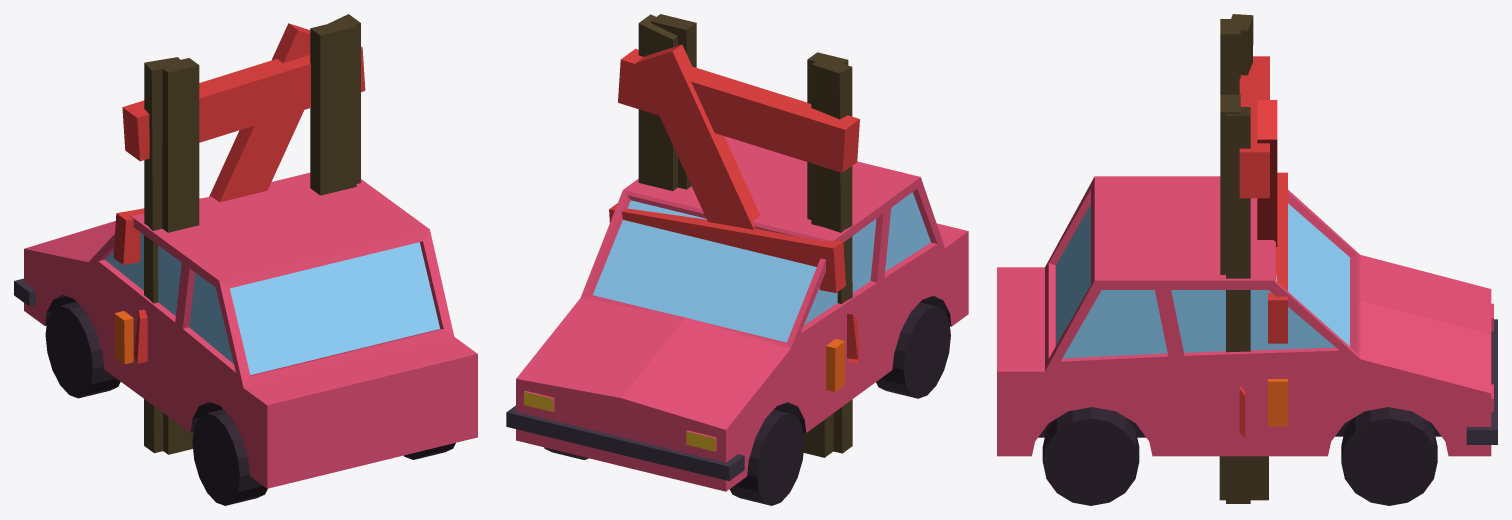
Rendered from ObstaclesModel.glb.
3 renders of one model, left to right at view 1: azimuth 30°, elevation 25°; view 2: azimuth 150°, elevation 25°; view 3: azimuth 270°, elevation 25°, orthographic.
Visible parts, largest first — view 1: ObstacleCarModel, ObstacleBlockModel, ObstacleSlideModel, ObstacleJumpModel; view 2: ObstacleCarModel, ObstacleSlideModel, ObstacleBlockModel, ObstacleJumpModel; view 3: ObstacleCarModel, ObstacleSlideModel, ObstacleBlockModel, ObstacleJumpModel.
Boxes of the visible parts, box(x1,y1,x2,y2) form: ObstacleCarModel: box(14, 172, 477, 505); ObstacleBlockModel: box(127, 19, 365, 454); ObstacleSlideModel: box(122, 14, 360, 453); ObstacleJumpModel: box(113, 197, 208, 454); ObstacleCarModel: box(506, 136, 968, 505); ObstacleSlideModel: box(618, 14, 854, 453); ObstacleBlockModel: box(630, 14, 859, 363); ObstacleJumpModel: box(609, 203, 845, 457); ObstacleCarModel: box(997, 176, 1497, 505); ObstacleSlideModel: box(1226, 14, 1269, 503); ObstacleBlockModel: box(1220, 19, 1277, 437); ObstacleJumpModel: box(1219, 172, 1287, 500).
Bounding box in the file's own units: 1.09 × 1.73 × 2.03.
1 material, 1 textured.
